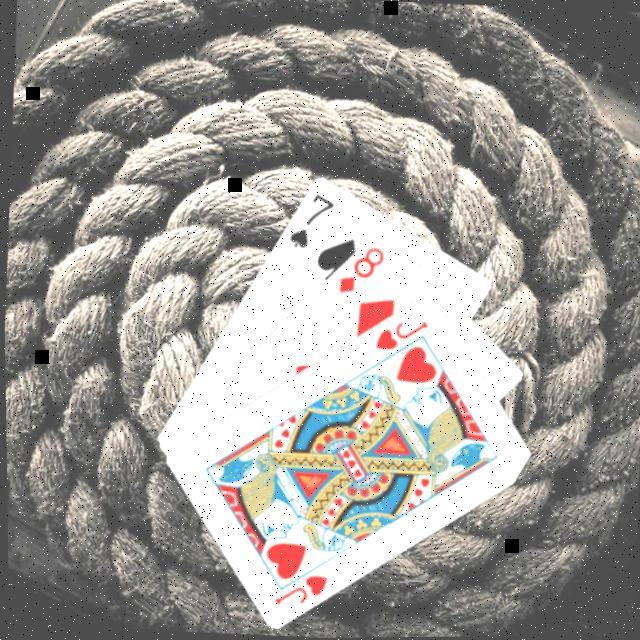7S: (282, 186, 336, 251)
8D: (331, 239, 386, 296)
JH: (369, 313, 429, 354), (267, 568, 327, 609)
